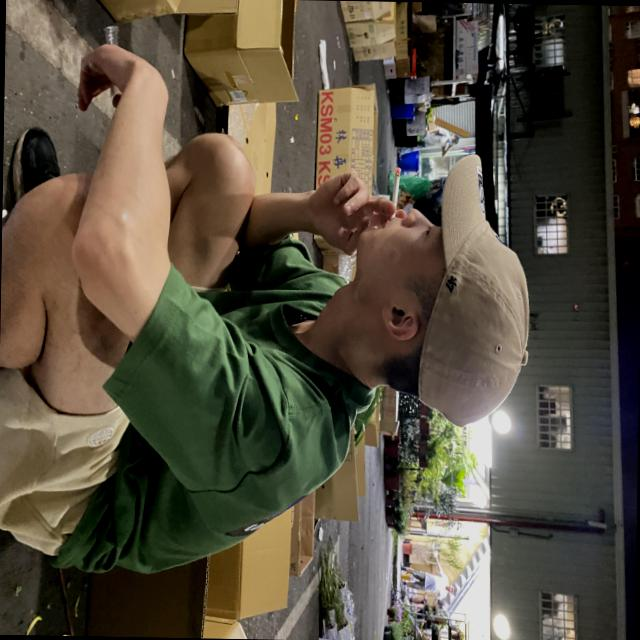smoke: (378, 159, 402, 224)
